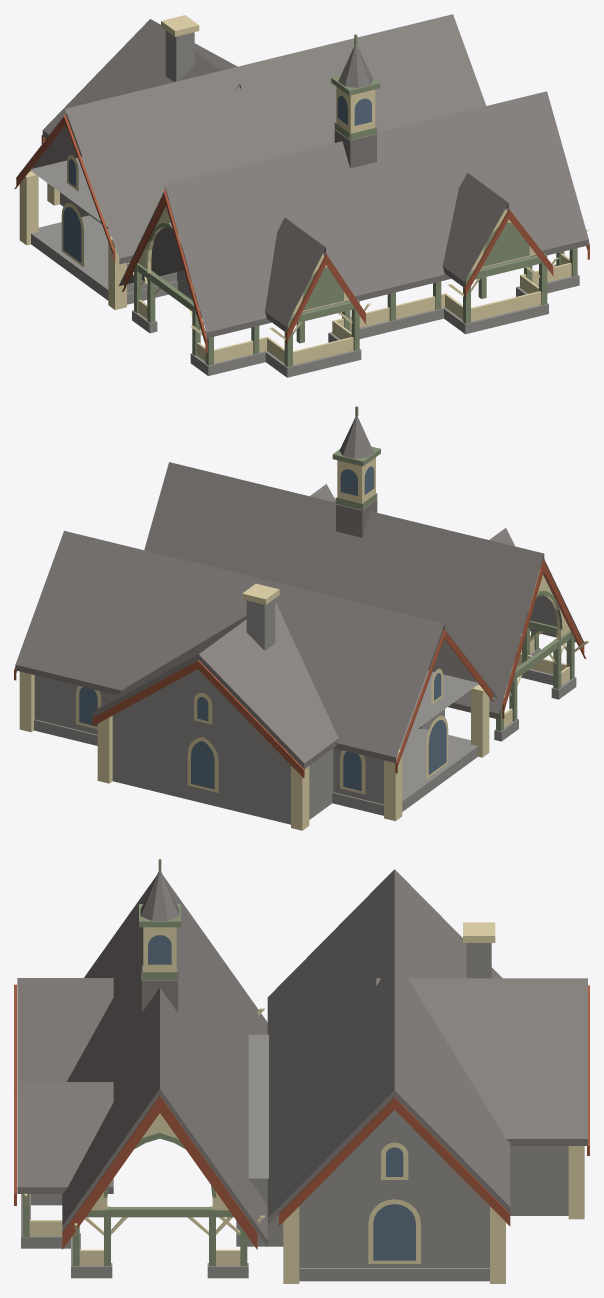
File: nyc-cp-dairy.glb
The picture shows the model from 3 angles, top to bottom: view 1: azimuth 30°, elevation 25°; view 2: azimuth 150°, elevation 25°; view 3: azimuth 270°, elevation 25°; orthographic projection. The views are drawn at different scales.
Parts seen in each view (by area): view 1: The Dairy; view 2: The Dairy; view 3: The Dairy.
Part boxes in pixels (<box>): The Dairy: <box>14,14,589,377</box>; The Dairy: <box>14,406,589,830</box>; The Dairy: <box>14,859,589,1283</box>.
Bounding box in the file's own units: 21.57 × 13.8 × 23.01.
